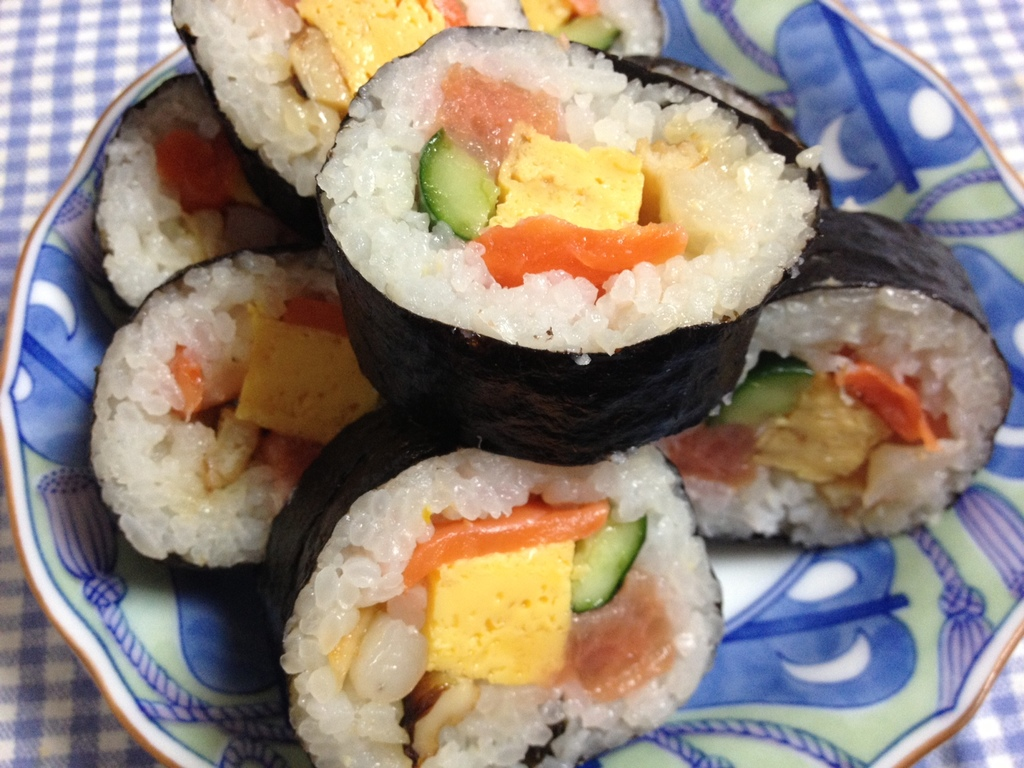sushi: (84, 0, 1006, 767)
